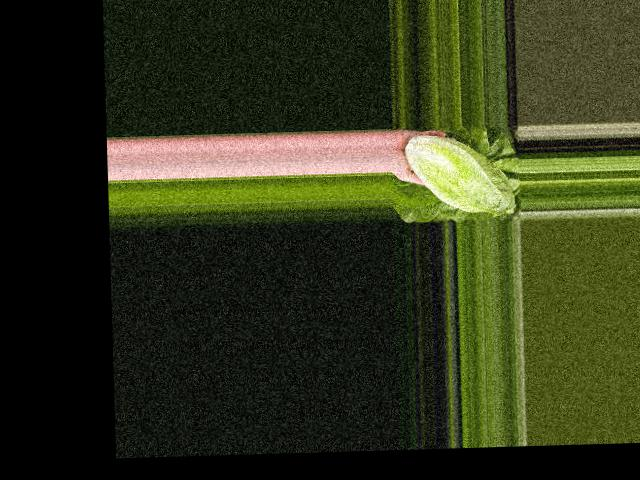lettuce: (402, 129, 516, 217)
